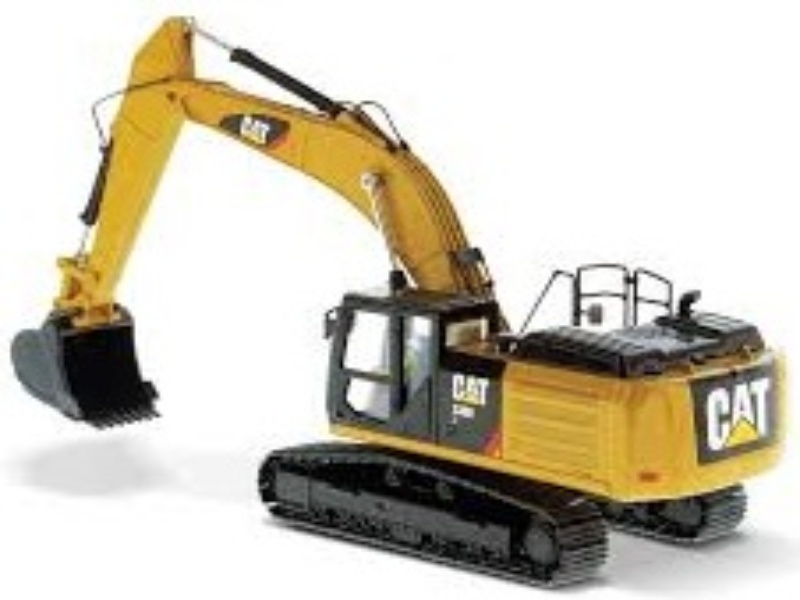wajueji: (229, 164, 792, 600)
